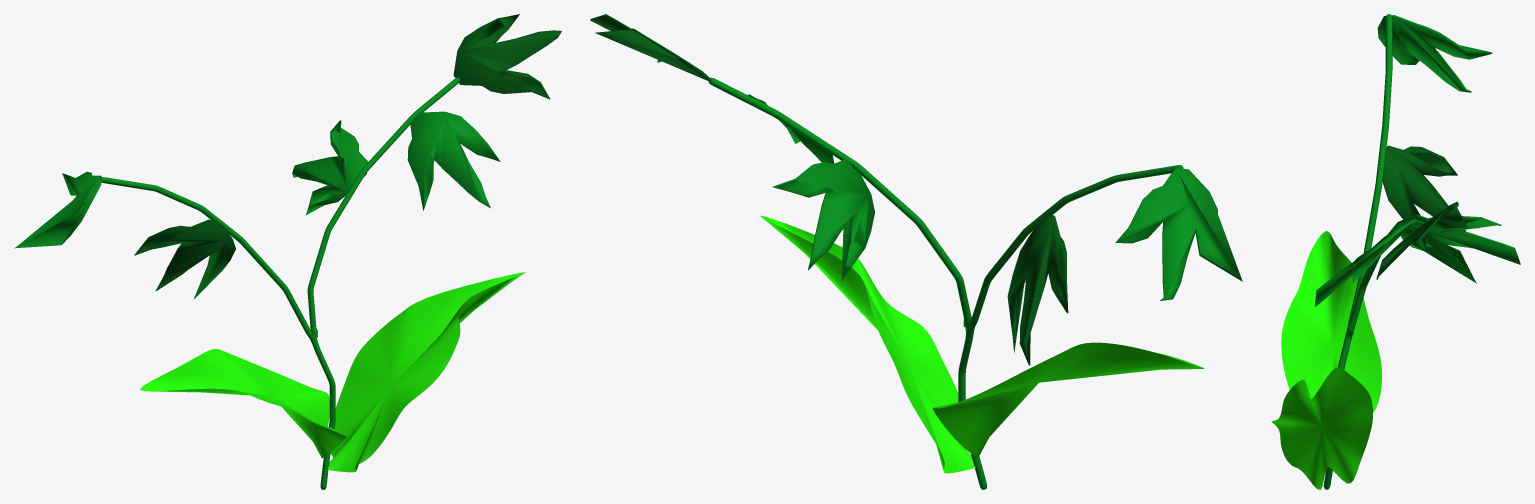
The model's file is Carotte_Croissance_1.fbx.
3 views of the same model, side by side, from view 1: azimuth 30°, elevation 25°; view 2: azimuth 150°, elevation 25°; view 3: azimuth 270°, elevation 25° (orthographic). The views are drawn at different scales.
Parts seen in each view (by area): view 1: Feuille_Base_1.001, Feuille_Base_1, Feuille_1, Feuille_1.001, Branche, Feuille_1.004, Feuille_1.002, Feuille_1.003; view 2: Feuille_Base_1.001, Feuille_Base_1, Feuille_1.003, Branche, Feuille_1.002, Feuille_1.004, Feuille_1; view 3: Feuille_Base_1, Feuille_Base_1.001, Feuille_1.004, Feuille_1.003, Branche, Feuille_1.002, Feuille_1.001, Feuille_1.
Part boxes in pixels (x1,y1,x2,y2): Feuille_Base_1.001: [327, 272, 525, 472]; Feuille_Base_1: [140, 349, 347, 458]; Feuille_1: [453, 14, 561, 99]; Feuille_1.001: [407, 111, 500, 210]; Branche: [100, 77, 459, 489]; Feuille_1.004: [134, 219, 235, 299]; Feuille_1.002: [292, 120, 367, 215]; Feuille_1.003: [14, 171, 101, 248]; Feuille_Base_1.001: [759, 215, 975, 473]; Feuille_Base_1: [933, 342, 1204, 456]; Feuille_1.003: [1115, 167, 1242, 300]; Branche: [708, 77, 1183, 489]; Feuille_1.002: [773, 159, 874, 280]; Feuille_1.004: [1007, 215, 1068, 365]; Feuille_1: [590, 14, 711, 81]; Feuille_Base_1: [1281, 231, 1381, 412]; Feuille_Base_1.001: [1271, 367, 1372, 489]; Feuille_1.004: [1382, 145, 1465, 231]; Feuille_1.003: [1377, 15, 1492, 92]; Branche: [1323, 14, 1429, 489]; Feuille_1.002: [1401, 216, 1520, 283]; Feuille_1.001: [1315, 219, 1416, 306]; Feuille_1: [1376, 201, 1467, 279].
Bounding box in the file's own units: 255 × 166 × 91.79.
